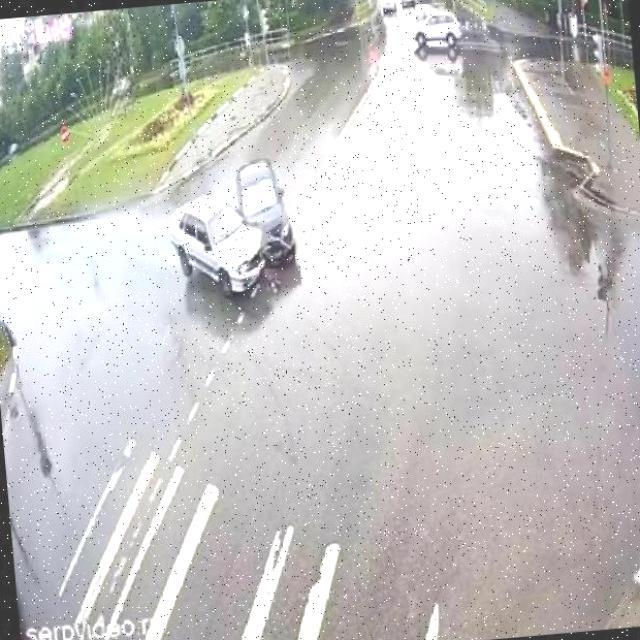accident: (159, 153, 302, 308)
